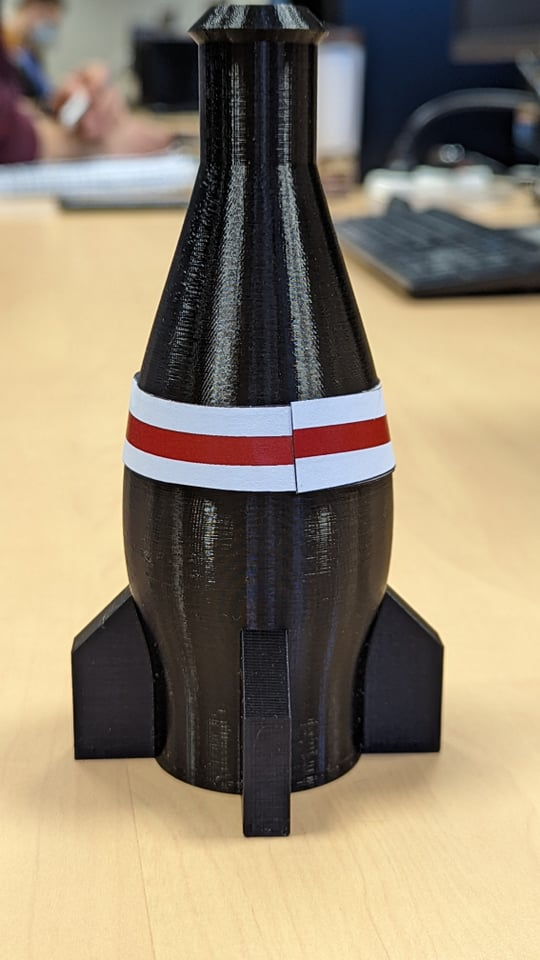bottle: (53, 3, 468, 854)
